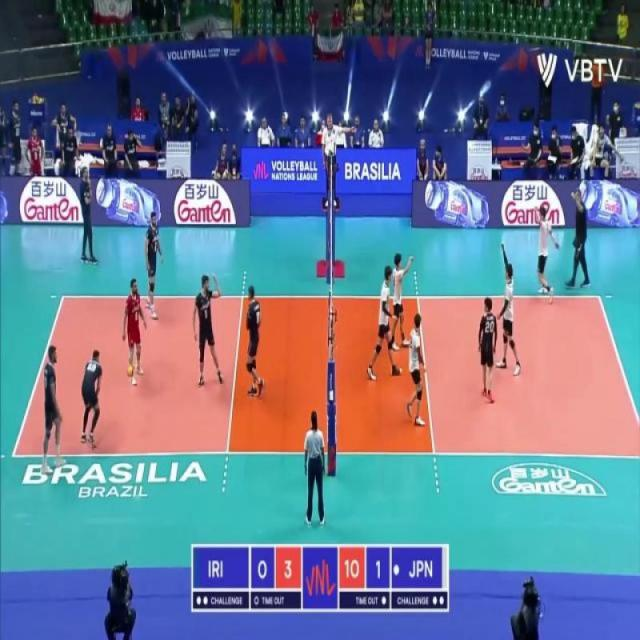volleyball: (126, 363, 135, 378), (32, 92, 38, 103), (633, 102, 640, 108)
